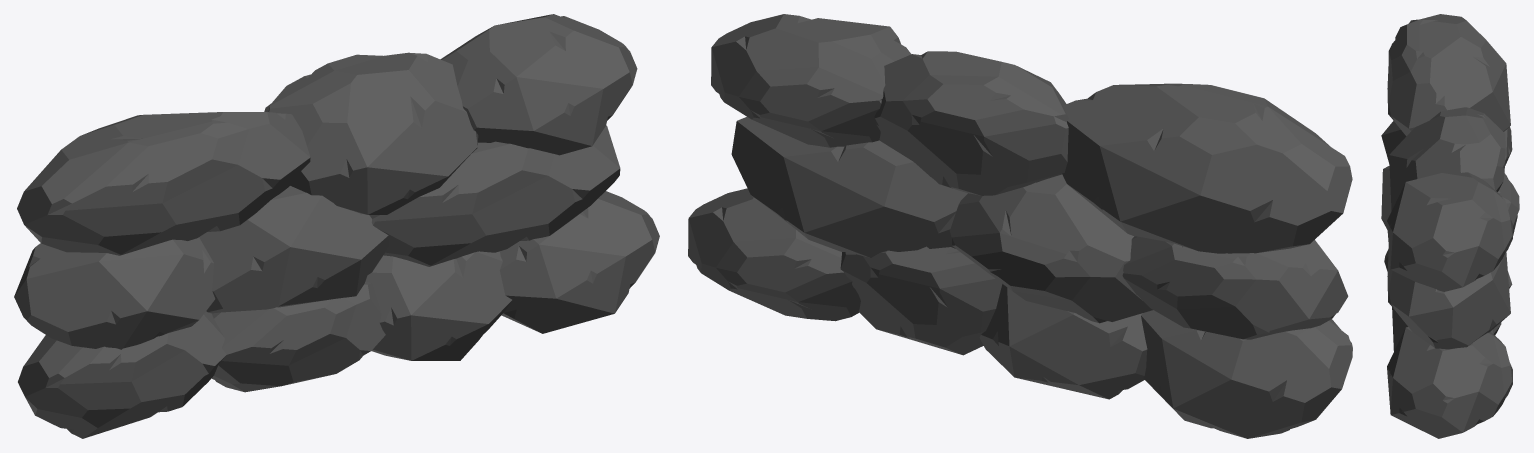
The model's file is Rock Barricade.fbx.
The picture shows the model from 3 angles, left to right: view 1: azimuth 30°, elevation 25°; view 2: azimuth 150°, elevation 25°; view 3: azimuth 270°, elevation 25°; orthographic projection. The views are drawn at different scales.
Parts seen in each view (by area): view 1: Rock Barricade 10, Rock Barricade 09, Rock Barricade 08, Rock Barricade 07, Rock Barricade 05, Rock Barricade 06, Rock Barricade 04, Rock Barricade 01, Rock Barricade 03, Rock Barricade 02; view 2: Rock Barricade 10, Rock Barricade 09, Rock Barricade 07, Rock Barricade 08, Rock Barricade 04, Rock Barricade 06, Rock Barricade 05, Rock Barricade 01, Rock Barricade 02, Rock Barricade 03; view 3: Rock Barricade 08, Rock Barricade 10, Rock Barricade 01, Rock Barricade 09, Rock Barricade 07, Rock Barricade 06, Rock Barricade 05, Rock Barricade 02.
Part boxes in pixels (x1,y1,x2,y2): Rock Barricade 10: (17, 112, 310, 255); Rock Barricade 09: (264, 52, 478, 214); Rock Barricade 08: (440, 14, 637, 155); Rock Barricade 07: (369, 125, 620, 266); Rock Barricade 05: (14, 237, 215, 349); Rock Barricade 06: (199, 186, 389, 313); Rock Barricade 04: (18, 311, 226, 438); Rock Barricade 01: (499, 191, 659, 333); Rock Barricade 03: (211, 281, 385, 392); Rock Barricade 02: (365, 251, 512, 360); Rock Barricade 10: (1062, 83, 1352, 253); Rock Barricade 09: (874, 51, 1068, 195); Rock Barricade 07: (731, 117, 967, 257); Rock Barricade 08: (711, 14, 910, 147); Rock Barricade 04: (1141, 310, 1352, 438); Rock Barricade 06: (950, 174, 1152, 323); Rock Barricade 05: (1122, 236, 1348, 339); Rock Barricade 01: (688, 188, 860, 321); Rock Barricade 02: (840, 246, 1002, 355); Rock Barricade 03: (979, 284, 1147, 399); Rock Barricade 08: (1387, 172, 1512, 291); Rock Barricade 10: (1387, 14, 1510, 135); Rock Barricade 01: (1387, 327, 1512, 438); Rock Barricade 09: (1389, 107, 1505, 210); Rock Barricade 07: (1387, 246, 1510, 349); Rock Barricade 06: (1381, 165, 1519, 235); Rock Barricade 05: (1381, 121, 1512, 165); Rock Barricade 02: (1392, 307, 1501, 351).
Bounding box in the file's own units: 1.67 × 0.7595 × 0.3988.
